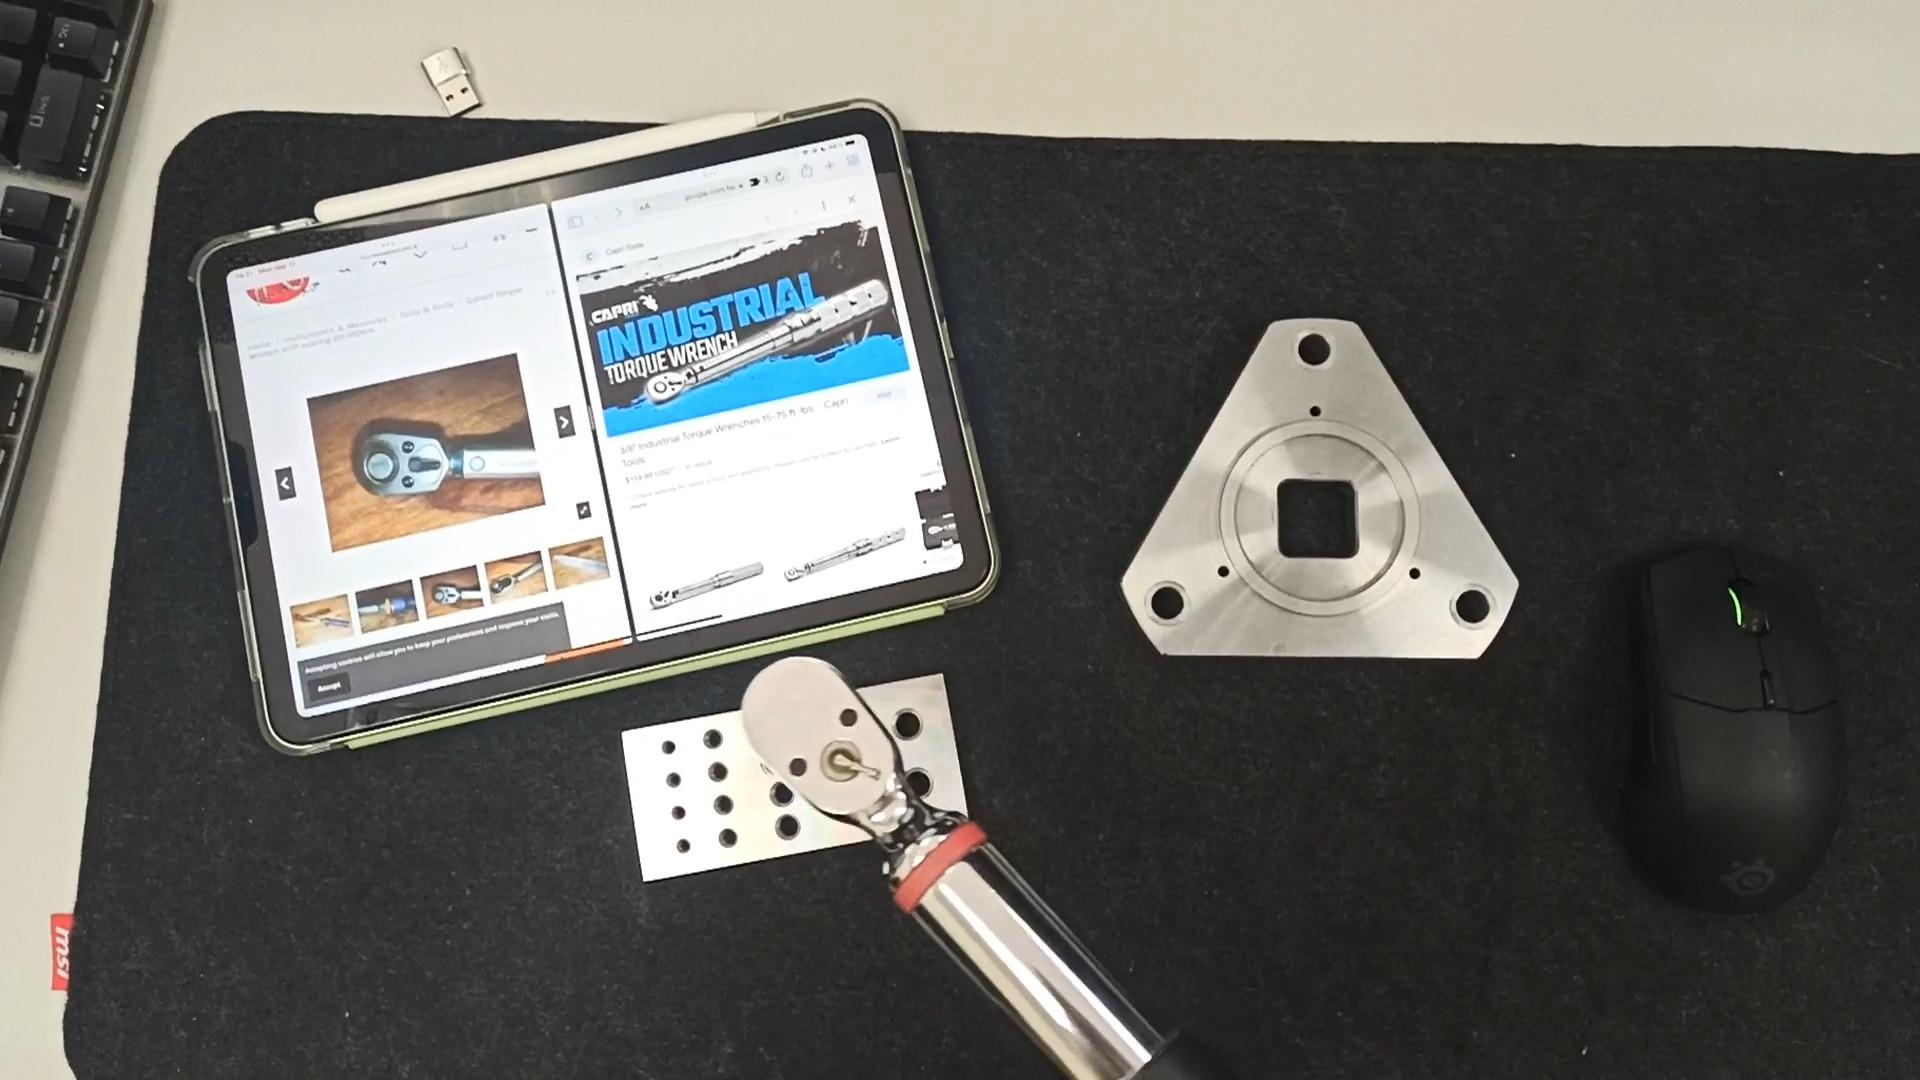Tool: (738, 657, 924, 849), (343, 429, 454, 498), (641, 368, 691, 405)
hole: (1435, 584, 1507, 637), (1278, 330, 1346, 377), (1134, 583, 1201, 630), (886, 704, 927, 753), (901, 757, 938, 810), (756, 779, 806, 811), (764, 812, 814, 841), (691, 728, 735, 752), (692, 758, 735, 782), (698, 794, 738, 818), (704, 831, 742, 852), (654, 767, 688, 787), (658, 803, 692, 823), (651, 737, 684, 756), (663, 839, 695, 856)
